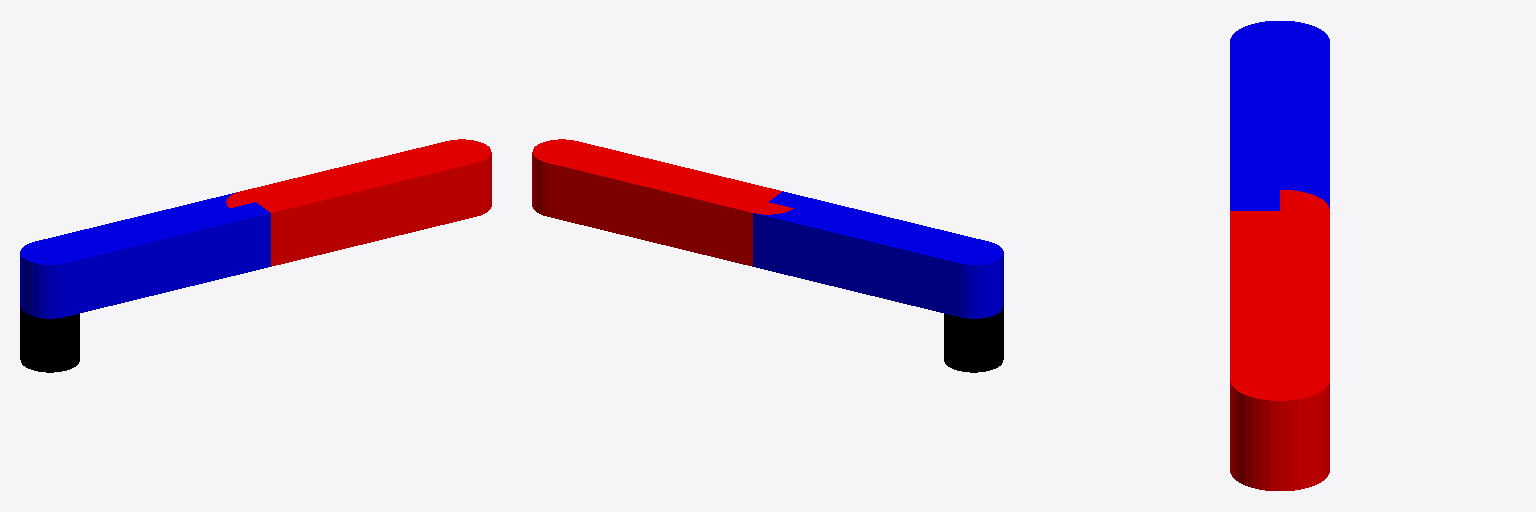
robot.urdf — scara:
<?xml version="1.0"?>
<robot name="scara">


<material name="blue">
    <color rgba="0 0 1 1"/>
  </material>
  <material name="red">
    <color rgba="1 0 0 1"/>
  </material>
  <material name="green">
    <color rgba="0 1 0 1"/>
  </material>
      <material name="black">
    <color rgba="0 0 0 1"/>
  </material>


  <link name="base_link">
    <visual>
      <geometry>
        <cylinder length="1" radius="0.5"/>
      </geometry>
       <origin rpy="0 0 0" xyz="0 0 0.5"/>
      <material name="black"/>
    </visual>
  </link>




   <link name="base_link_f">
    <visual>
      <geometry>
        <cylinder length="1" radius="0.5"/>
      </geometry>
       <origin rpy="0 0 0" xyz="0 0 -0.5"/>
      <material name="blue"/>
    </visual>
  </link>-->


  <joint name="base_link_to_base_link_f" type="fixed">
    <parent link="base_link"/>
    <child link="base_link_f"/>
    <origin xyz="0 0 2"/>
  </joint>




  <link name="link1">
    <visual>
      <geometry>
        <box size="4 1 1"/>
      </geometry>
      <origin rpy="1.57075 0 0" xyz="2 0 -0.5"/>
      <material name="blue"/>
    </visual>
  </link>





  <joint name="base_link_to_link1" type="continuous">
    <parent link="base_link"/>
    <child link="link1"/>
      <axis xyz="0 0 1"/>
    <origin xyz="0 0 2"/>
  </joint>


  <link name="link2">
    <visual>
      <geometry>
        <box size="4 1 1"/>
      </geometry>
      <origin rpy="1.57075 0 0" xyz="2 0 -0.5"/>
      <material name="red"/>
    </visual>
  </link>





  <joint name="link1_to_link2" type="continuous">
    <parent link="link1"/>
    <child link="link2"/>
      <axis xyz="0 0 1"/>
    <origin xyz="4 0 0"/>
  </joint>


   <link name="link1_f">
    <visual>
      <geometry>
        <cylinder length="1" radius="0.5"/>
      </geometry>
      <origin rpy="0 0 0" xyz="0 0 -0.5"/>
      <material name="red"/>
    </visual>
  </link>


   <joint name="link1_to_link1_f" type="fixed">
    <parent link="link1"/>
    <child link="link1_f"/>
    <origin xyz="4 0 0"/>
  </joint>



  <link name="link2_f">
    <visual>
      <geometry>
         <cylinder length="1" radius="0.5"/>
      </geometry>
      <origin rpy="0 0 0" xyz="0 0 -0.5"/>
      <material name="red"/>
    </visual>
  </link>


  <joint name="link2_to_link2_f" type="fixed">
    <parent link="link2"/>
    <child link="link2_f"/>
    <origin xyz="4 0 0"/>
  </joint>




 <link name="ee_link">
    <visual>
      <geometry>
         <mesh filename="package://pari_aula11/stl/boltDemoP.stl" scale="0.1 0.1 0.1"/>
      </geometry>
      <origin rpy="0 0 0" xyz="0 0 1"/>
      <material name="green"/>
    </visual>
  </link>

  <joint name="link2_f_to_ee_link" type="prismatic">
    <parent link="link2_f"/>
    <child link="ee_link"/>
    <limit effort="1000.0" lower="-1.5" upper="1.5" velocity="0.5"/>
    <axis xyz="0 0 1"/>
    <origin xyz="0 0 -1"/>
  </joint>
    
</robot>

--- Facts derived from the render (not from the file) ---
Views: 3 orthographic renders of the robot side by side, from view 1: azimuth 30°, elevation 25°; view 2: azimuth 150°, elevation 25°; view 3: azimuth 270°, elevation 25°.
Robot: scara — 7 links, 6 joints (2 continuous, 1 prismatic, 3 fixed); root link base_link; default pose: every joint at zero.
Links seen in each view (by area): view 1: link2, link1, base_link_f, base_link, link2_f, link1_f; view 2: link2, link1, base_link_f, base_link, link2_f, link1_f; view 3: link2, link1, link2_f, base_link_f, link1_f.
Link boxes in pixels (<box>): link2: <box>244,142,476,266</box>; link1: <box>39,192,270,316</box>; base_link_f: <box>20,240,74,318</box>; base_link: <box>20,306,79,372</box>; link2_f: <box>432,139,491,215</box>; link1_f: <box>226,190,280,207</box>; link2: <box>547,141,782,266</box>; link1: <box>753,191,988,316</box>; base_link_f: <box>944,242,1003,318</box>; base_link: <box>944,306,1003,372</box>; link2_f: <box>532,139,586,215</box>; link1_f: <box>738,196,793,214</box>; link2: <box>1230,211,1329,379</box>; link1: <box>1230,42,1329,210</box>; link2_f: <box>1230,359,1329,490</box>; base_link_f: <box>1230,21,1329,62</box>; link1_f: <box>1280,190,1329,231</box>.
Bounding box of the posed robot: 9 × 1 × 2 m (x, y, z).
0 mesh visuals loaded from 1 distinct referenced files (none loaded); not drawn: 1 (reference not matched to a file when rendering).
